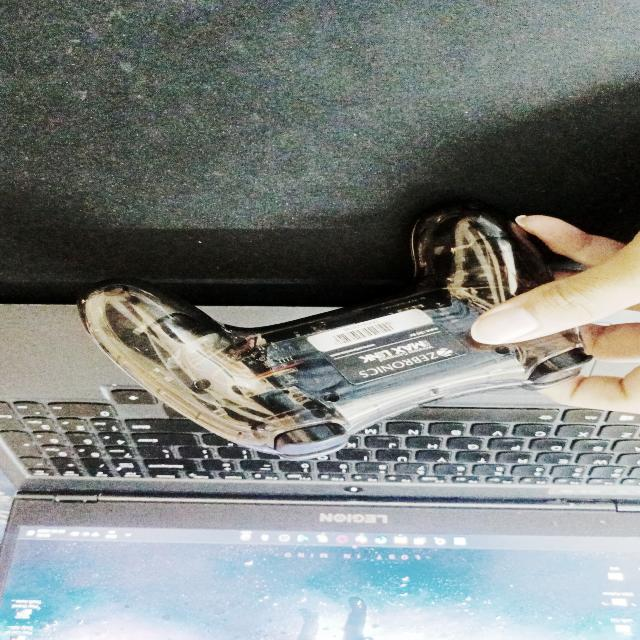gamepad: (76, 203, 598, 460)
